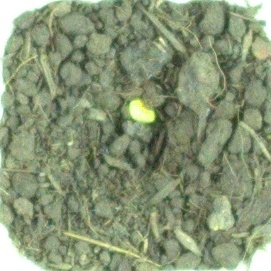chilli seed: (127, 96, 157, 123)
